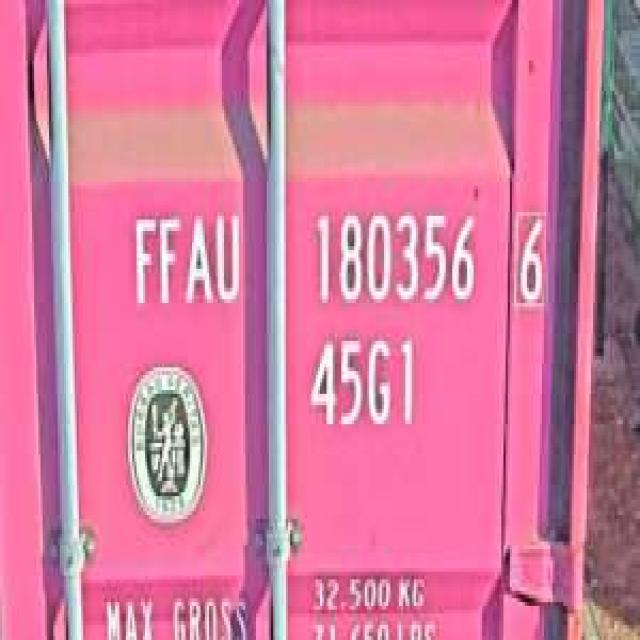dv: (510, 197, 553, 316)
owner: (124, 200, 245, 310)
serial: (305, 200, 482, 310)
size: (305, 330, 422, 436)
